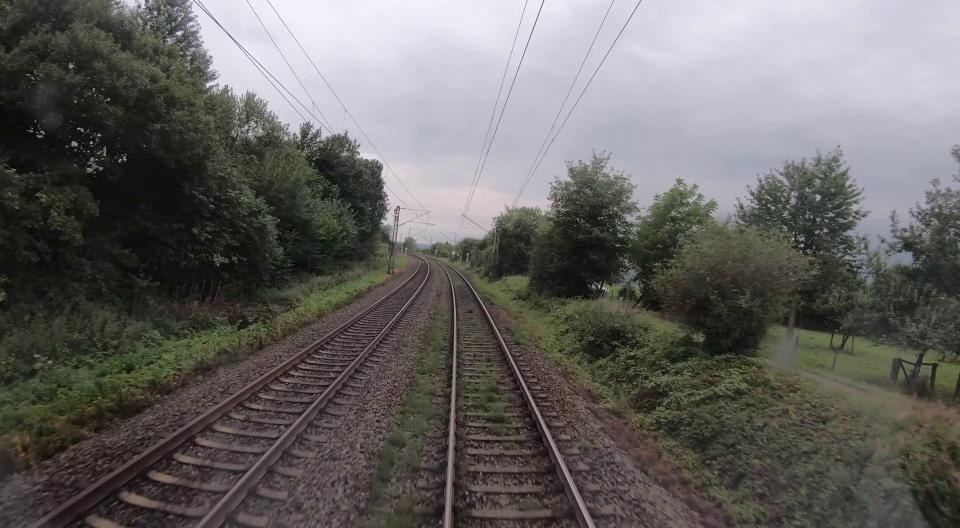Plant: (0, 269, 386, 466), (534, 338, 726, 528), (477, 280, 557, 338), (457, 356, 513, 423), (365, 429, 407, 510), (413, 304, 447, 389), (393, 384, 446, 437), (364, 504, 418, 528), (405, 441, 426, 471), (508, 324, 534, 345), (469, 332, 489, 343), (488, 424, 504, 436), (468, 316, 479, 330), (467, 309, 474, 313)
